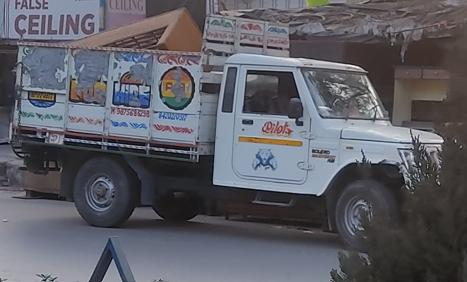Truck: (23, 12, 455, 242)
